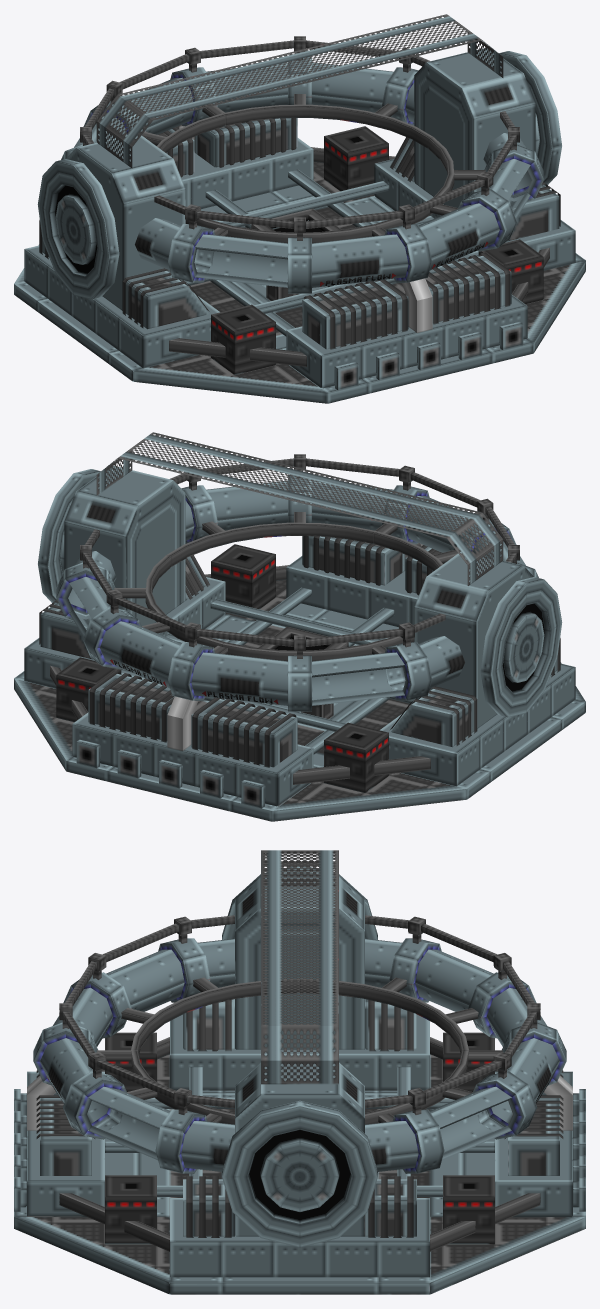
File: plasma_forge_static.obj
3 views of the same model, one above another, from view 1: azimuth 30°, elevation 25°; view 2: azimuth 150°, elevation 25°; view 3: azimuth 270°, elevation 25° (orthographic). The views are drawn at different scales.
Parts seen in each view (by area): view 1: Body; view 2: Body; view 3: Body.
Part boxes in pixels (x1,y1,x2,y2): Body: (14,14,585,403); Body: (14,432,585,821); Body: (14,850,585,1294).
Size of the model in its own units: 11 by 5 by 11.
